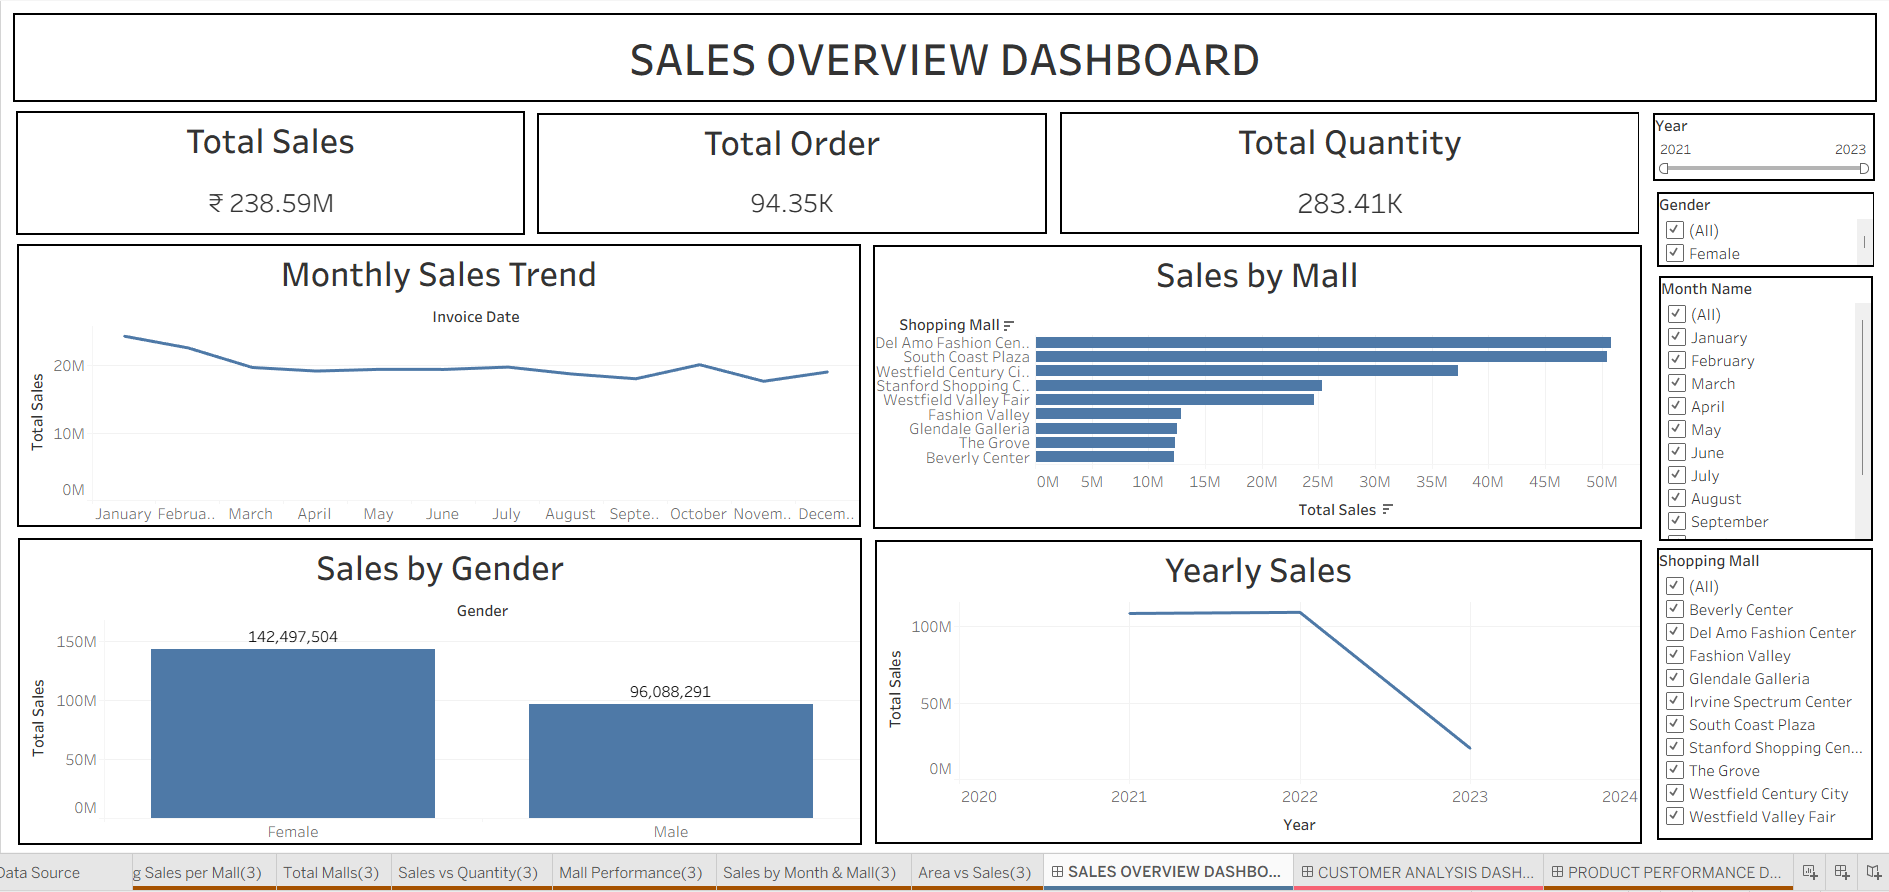

This screenshot's page, from the dashboard's own definition file:
{"tool":"tableau","page":{"name":"SALES OVERVIEW DASHBOARD","canvas":[1000,1000],"units":"permille","ordinal":2},"visuals":[{"type":"title","box":[4.8,9.4,990.3,114]},{"type":"worksheet","title":"Total Sales(1)","mark":"Automatic","box":[7.9,129.3,269.8,145.7]},{"type":"worksheet","title":"Total Quantity(1)","mark":"Automatic","box":[560.6,130.4,307.2,143.4]},{"type":"worksheet","title":"Total Order(1)","mark":"Automatic","box":[283.7,131.6,270.4,142.2]},{"type":"filter","title":"Monthly sales trends(1)","param":"[federated.1odhrio1aof2uv17c4m0p1lilno2].[none:year:qk]","box":[875.1,131.6,117.7,79.9]},{"type":"filter","title":"Monthly sales trends(1)","param":"[federated.1odhrio1aof2uv17c4m0p1lilno2].[none:gender:nk]","box":[876.9,224.4,115.3,88.1]},{"type":"worksheet","title":"Monthly sales trends(1)","mark":"Line","rows":["total_sales"],"cols":["invoice_date"],"box":[8.4,285.6,447.2,332.6]},{"type":"worksheet","title":"Sales by Mall(1)","mark":"Automatic","rows":["shopping_mall"],"cols":["total_sales"],"box":[461.7,286.7,407.4,333.7]},{"type":"filter","title":"Monthly sales trends(1)","param":"[federated.1odhrio1aof2uv17c4m0p1lilno2].[none:month_name:nk]","box":[878.1,323.2,113.5,311.4]},{"type":"worksheet","title":"Sales by Gender(1)","mark":"Automatic","rows":["total_sales"],"cols":["gender"],"box":[9.1,631,447.2,360.8]},{"type":"worksheet","title":"Yearly Sales(1)","mark":"Automatic","rows":["total_sales"],"cols":["year"],"box":[462.9,633.4,406.2,357.2]},{"type":"filter","title":"Monthly sales trends(1)","param":"[federated.1odhrio1aof2uv17c4m0p1lilno2].[none:shopping_mall:nk]","box":[876.9,642.8,114.7,343.1]}]}

Visuals, with their boxes on the dashboard's canvas, which has no fixed pixel size, in thousandths of its width and height (x1, y1, x2, y2). These are canvas units, not pixel positions in the 1889x892 screenshot, which may show the page scaled, cropped or inside an application window:
title: l=5, t=9, r=995, b=123
"Total Sales(1)" worksheet: l=8, t=129, r=278, b=275
"Total Quantity(1)" worksheet: l=561, t=130, r=868, b=274
"Total Order(1)" worksheet: l=284, t=132, r=554, b=274
"Monthly sales trends(1)" filter: l=875, t=132, r=993, b=212
"Monthly sales trends(1)" filter: l=877, t=224, r=992, b=312
"Monthly sales trends(1)" worksheet (Line marks): l=8, t=286, r=456, b=618
"Sales by Mall(1)" worksheet: l=462, t=287, r=869, b=620
"Monthly sales trends(1)" filter: l=878, t=323, r=992, b=635
"Sales by Gender(1)" worksheet: l=9, t=631, r=456, b=992
"Yearly Sales(1)" worksheet: l=463, t=633, r=869, b=991
"Monthly sales trends(1)" filter: l=877, t=643, r=992, b=986
